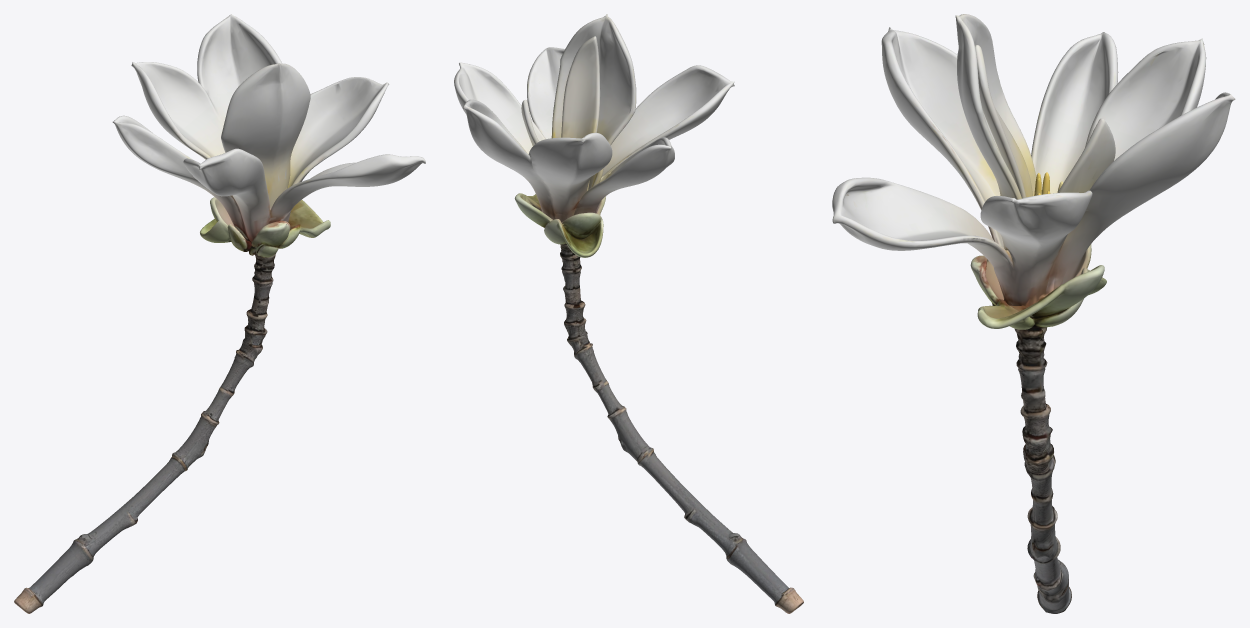
The model's file is yulan.glb.
The picture shows the model from 3 angles, left to right: view 1: azimuth 30°, elevation 25°; view 2: azimuth 150°, elevation 25°; view 3: azimuth 270°, elevation 25°; orthographic projection. The views are drawn at different scales.
Parts seen in each view (by area): view 1: node_0; view 2: node_0; view 3: node_0.
Boxes of the visible parts, left/top/right/bottom form: node_0: left=14, top=14, right=425, bottom=613; node_0: left=454, top=14, right=803, bottom=613; node_0: left=832, top=14, right=1235, bottom=613.
Size of the model in its own units: 0.7129 by 0.9915 by 0.4835.
1 material, 1 textured.
